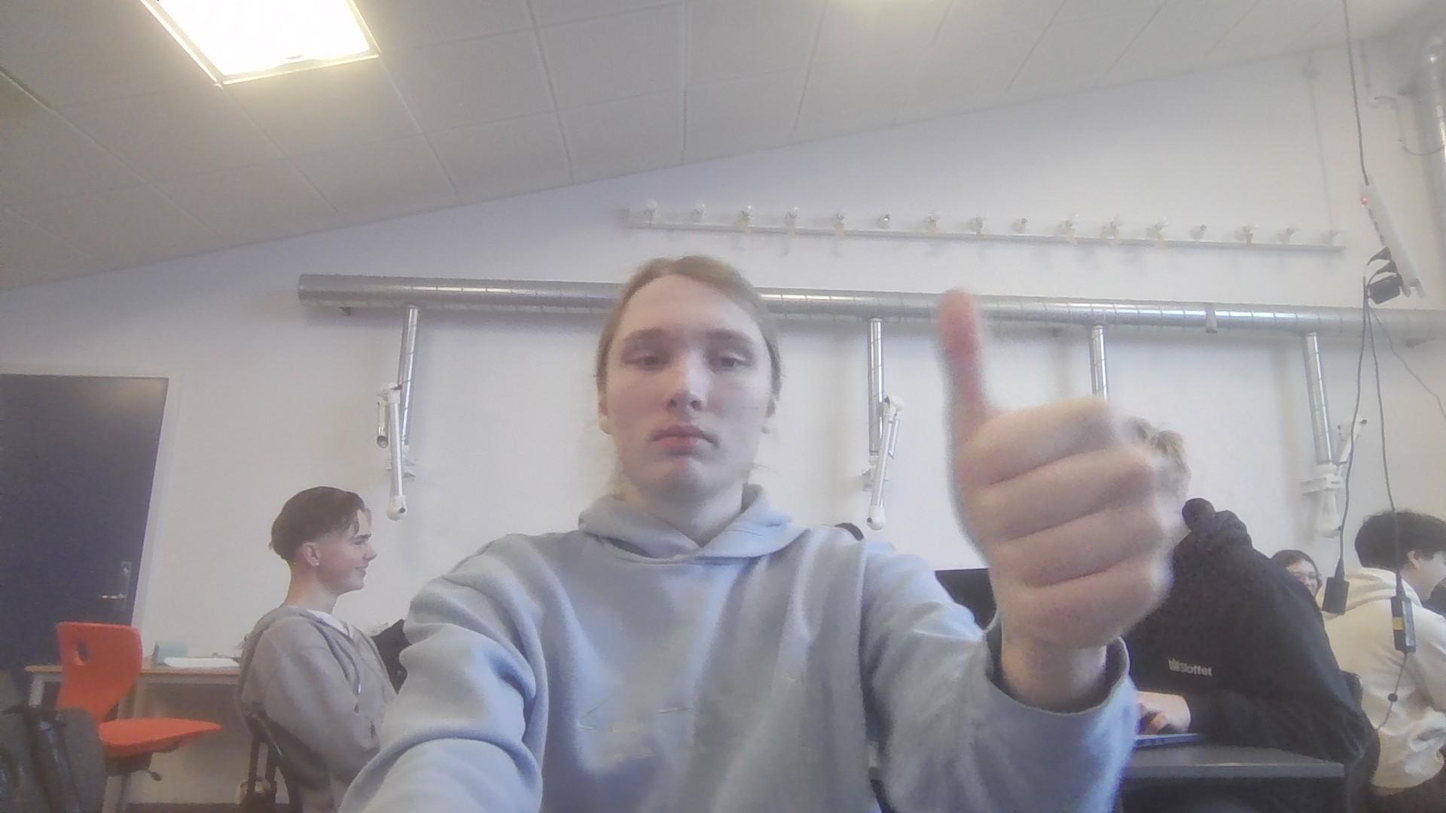thumbs up: (924, 283, 1187, 636)
